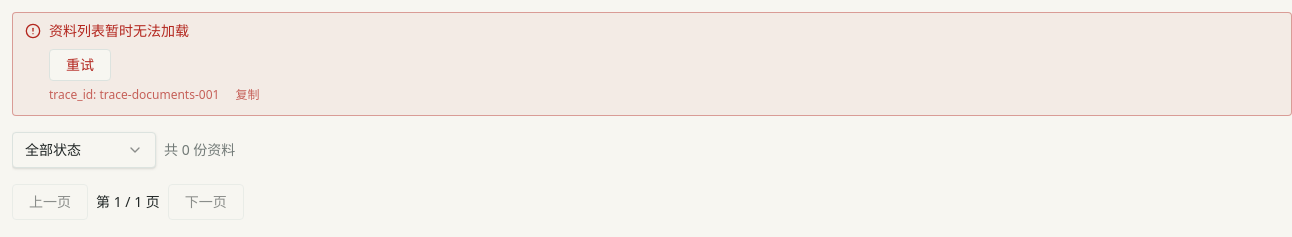
Scenario: 资料加载失败 › 列表失败显示安全消息、trace_id 与显式重试
This screenshot has width=1292, height=237.
Expected: the text "资料列表暂时无法加载" is shown, [49,21,189,40]
Click the button "重试" at (80, 65), box [49,49,111,81]
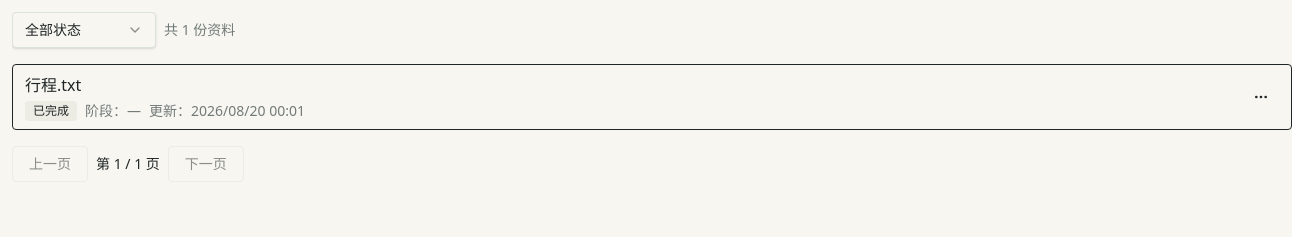
Now the text "行程.txt" is shown, box [25,74,81,96]
